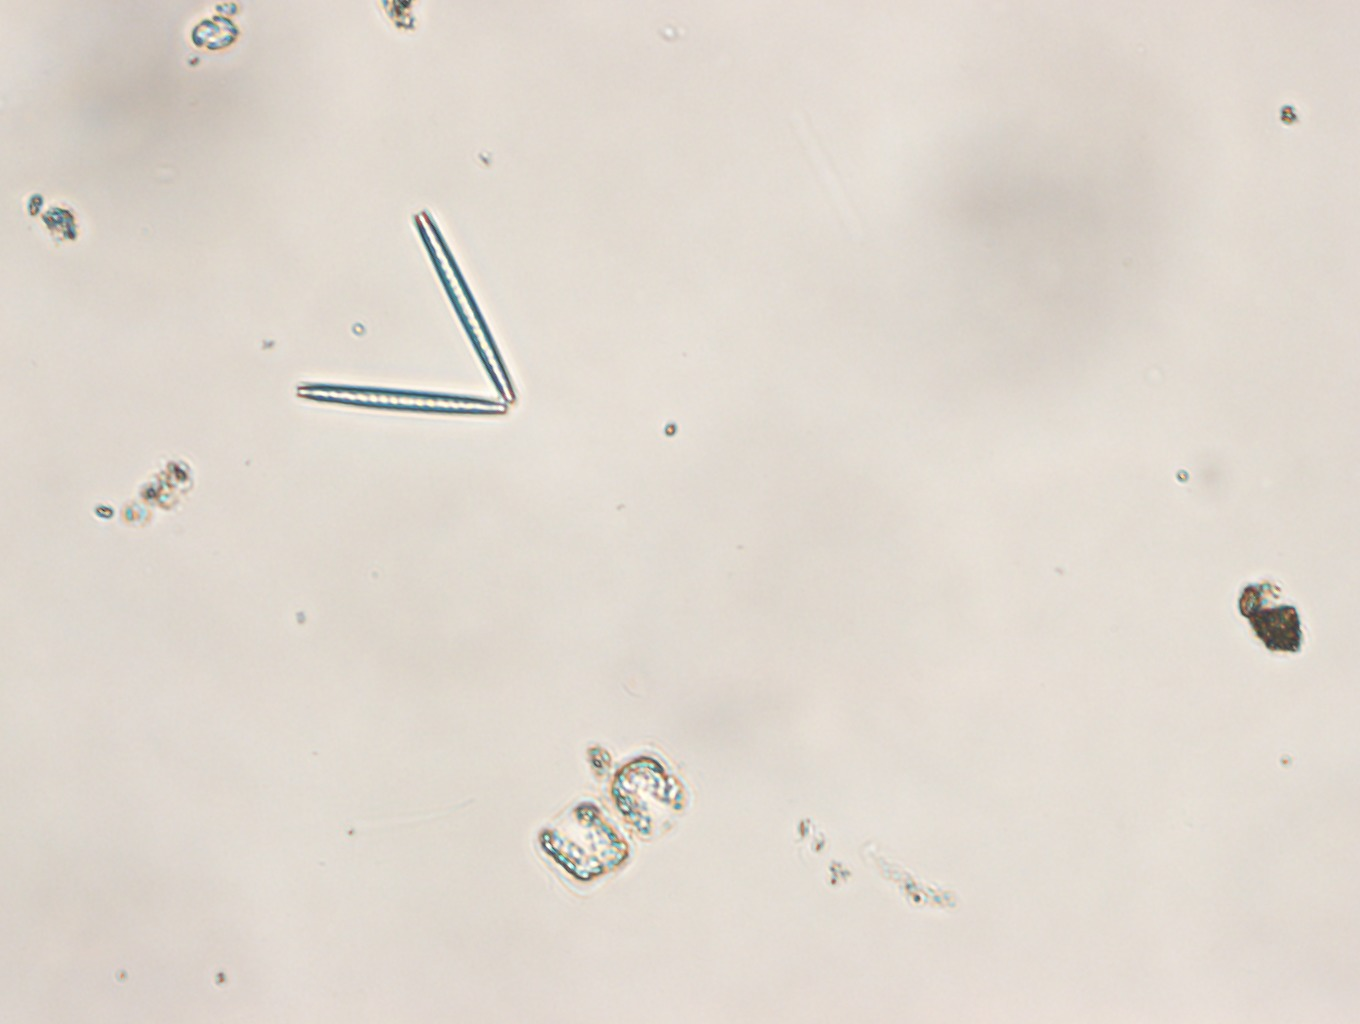thalassionema nitzschioides: (297, 204, 518, 414)
